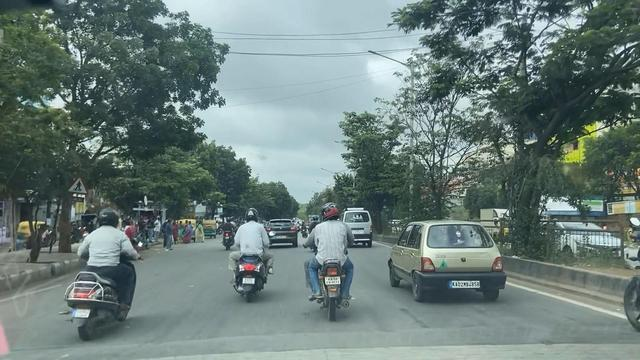LMV: (386, 206, 510, 314)
